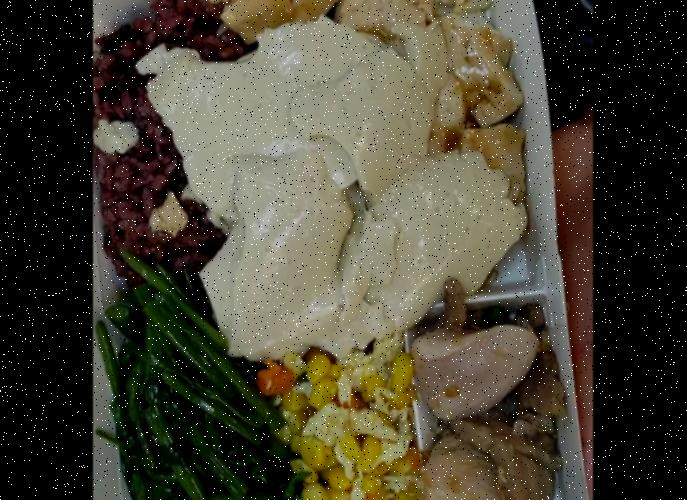box: (93, 0, 586, 500)
purple rice: (93, 0, 268, 310)
scallion chicken: (402, 307, 565, 500)
side dish: (172, 36, 506, 355), (225, 0, 528, 216), (100, 275, 295, 500), (252, 337, 416, 500)
